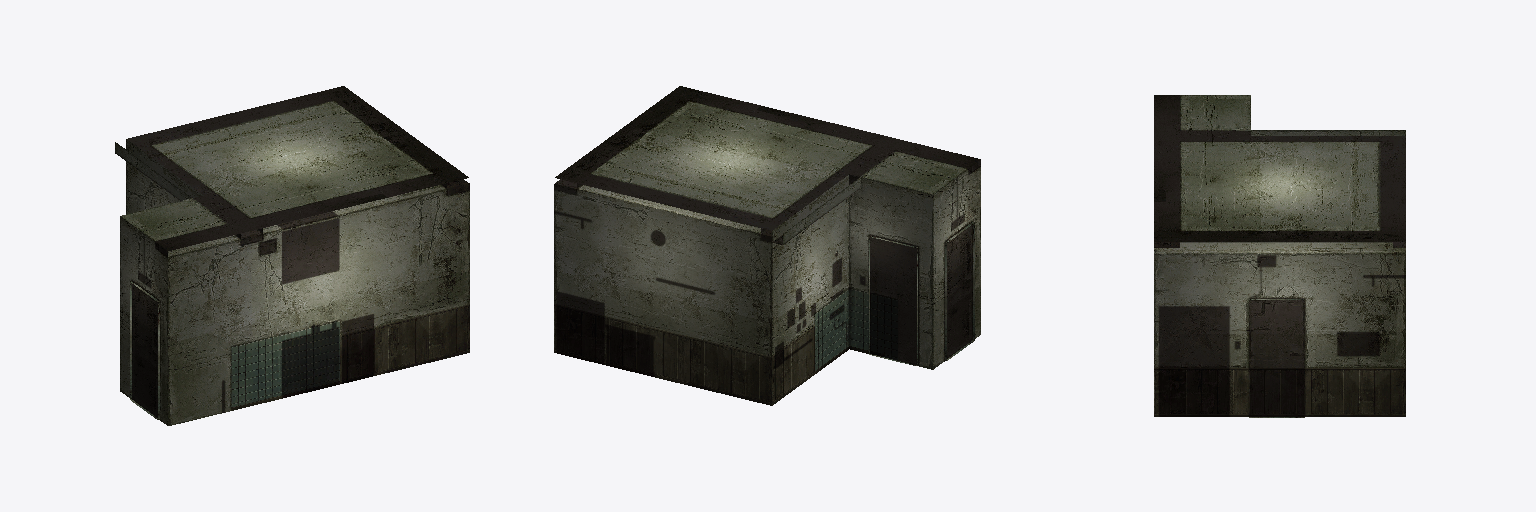
3 views of the same model, side by side, from view 1: azimuth 30°, elevation 25°; view 2: azimuth 150°, elevation 25°; view 3: azimuth 270°, elevation 25° (orthographic).
Size of the model in its own units: 7.06 by 3.88 by 5.03.
14 materials, 13 textured.